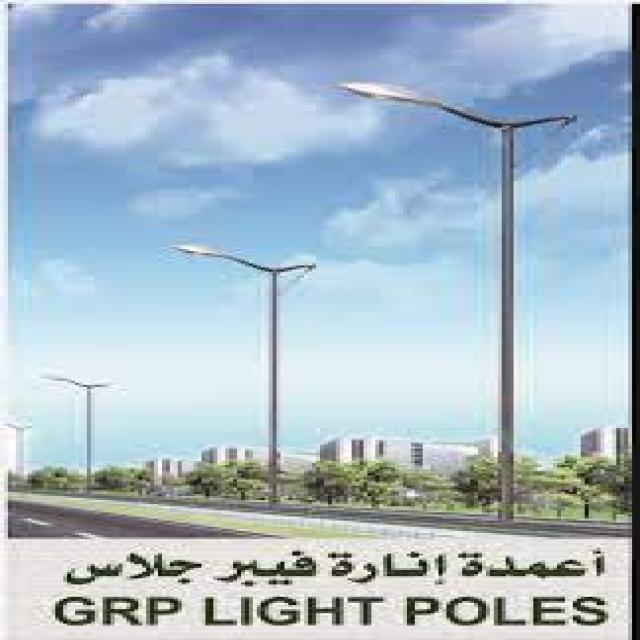Street Light: (332, 78, 521, 523), (174, 245, 288, 504), (47, 376, 99, 489)
